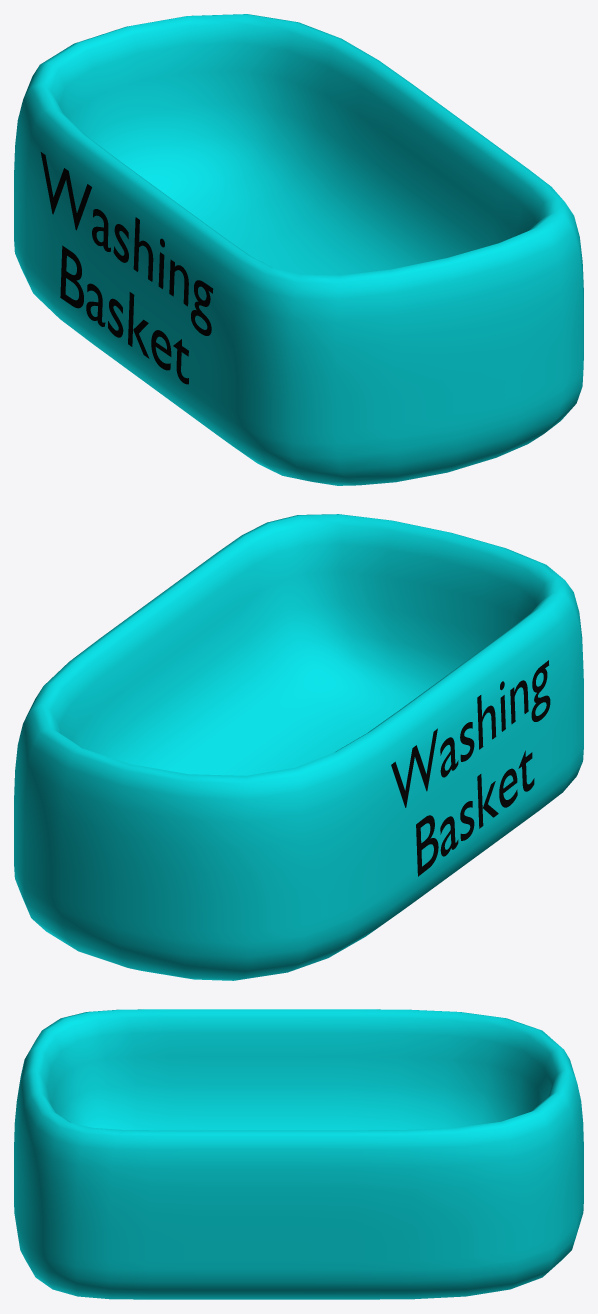
The model's file is Bin.fbx.
The picture shows the model from 3 angles, top to bottom: view 1: azimuth 30°, elevation 25°; view 2: azimuth 150°, elevation 25°; view 3: azimuth 270°, elevation 25°; orthographic projection. The views are drawn at different scales.
Parts seen in each view (by area): view 1: Cube, Text; view 2: Cube, Text; view 3: Cube.
Part boxes in pixels (<box>): Cube: <box>14,14,583,485</box>; Text: <box>40,152,213,384</box>; Cube: <box>14,514,583,980</box>; Text: <box>391,660,550,876</box>; Cube: <box>14,1009,583,1299</box>.
Bounding box in the file's own units: 136 × 85.3 × 231.
